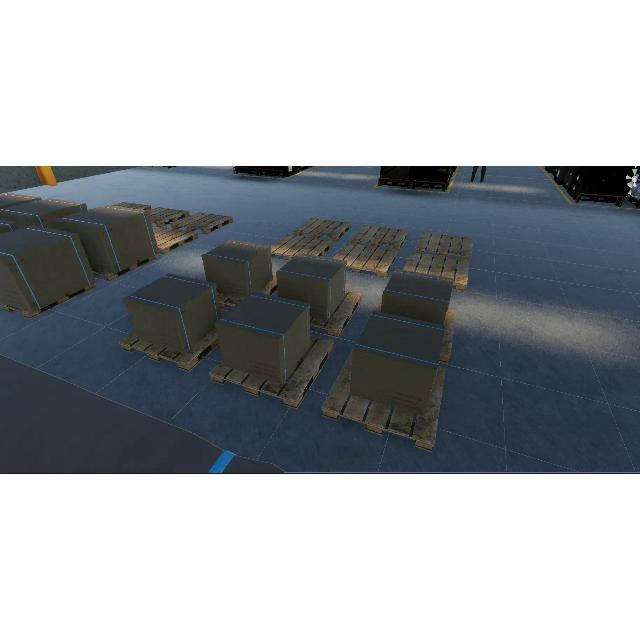wooden_pallet: (320, 355, 450, 455), (209, 336, 335, 410), (119, 326, 216, 372), (2, 282, 97, 318), (307, 289, 364, 339), (403, 252, 472, 291), (333, 244, 399, 278), (88, 254, 155, 282), (267, 234, 333, 261), (414, 232, 474, 261), (350, 225, 410, 251), (171, 211, 234, 235), (293, 217, 352, 242), (152, 225, 198, 255), (145, 206, 190, 227)
